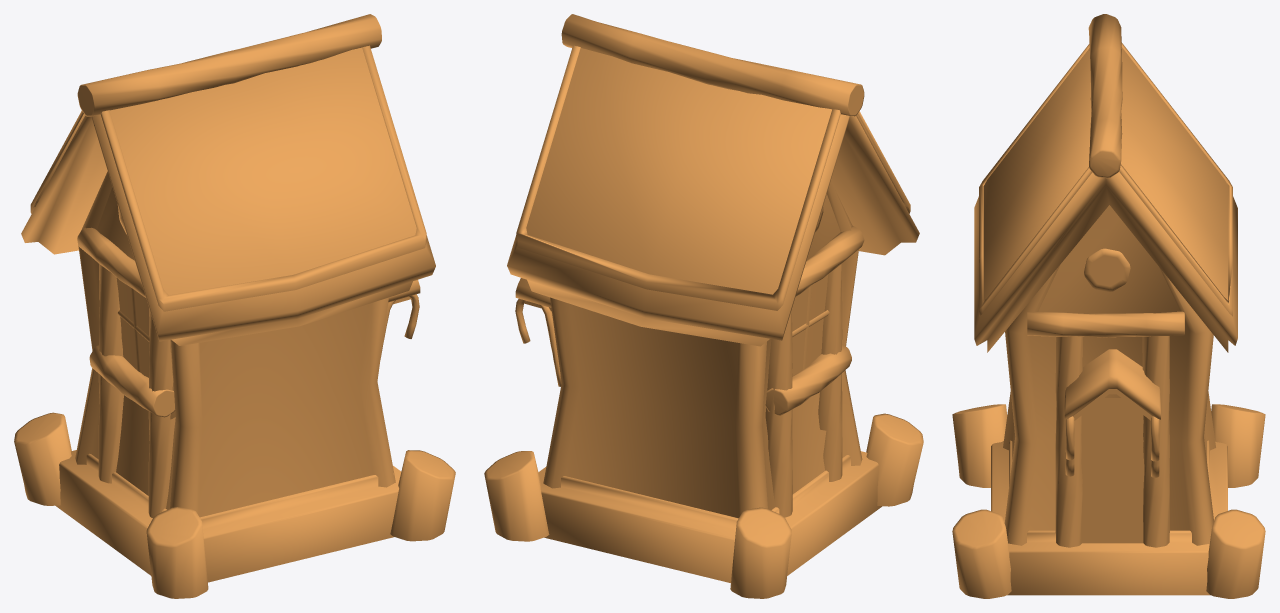
Rendered from house_gbread.fbx.
3 renders of one model, left to right at view 1: azimuth 30°, elevation 25°; view 2: azimuth 150°, elevation 25°; view 3: azimuth 270°, elevation 25°, orthographic. The views are drawn at different scales.
Visible parts, largest first — view 1: house_gbread; view 2: house_gbread; view 3: house_gbread.
Boxes of the visible parts, bbox=[...] form: house_gbread: bbox=[14, 14, 455, 598]; house_gbread: bbox=[484, 14, 923, 598]; house_gbread: bbox=[952, 14, 1265, 598].
Size of the model in its own units: 542 by 769 by 483.
